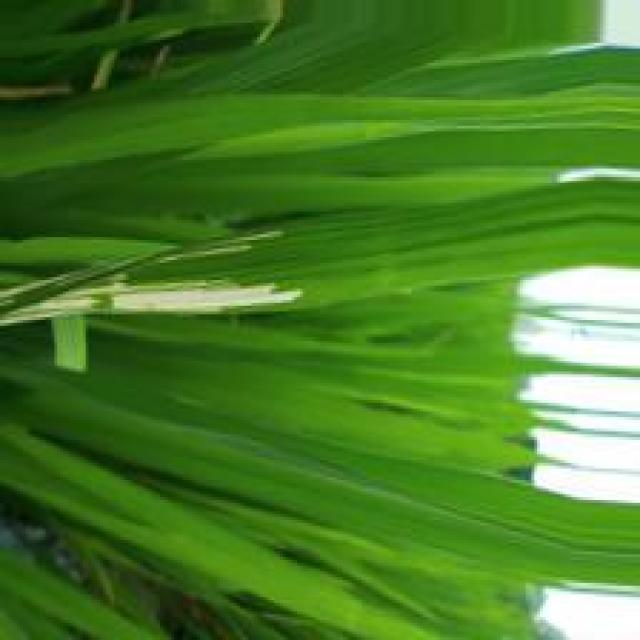Rice_Hispa: (0, 275, 306, 326)
